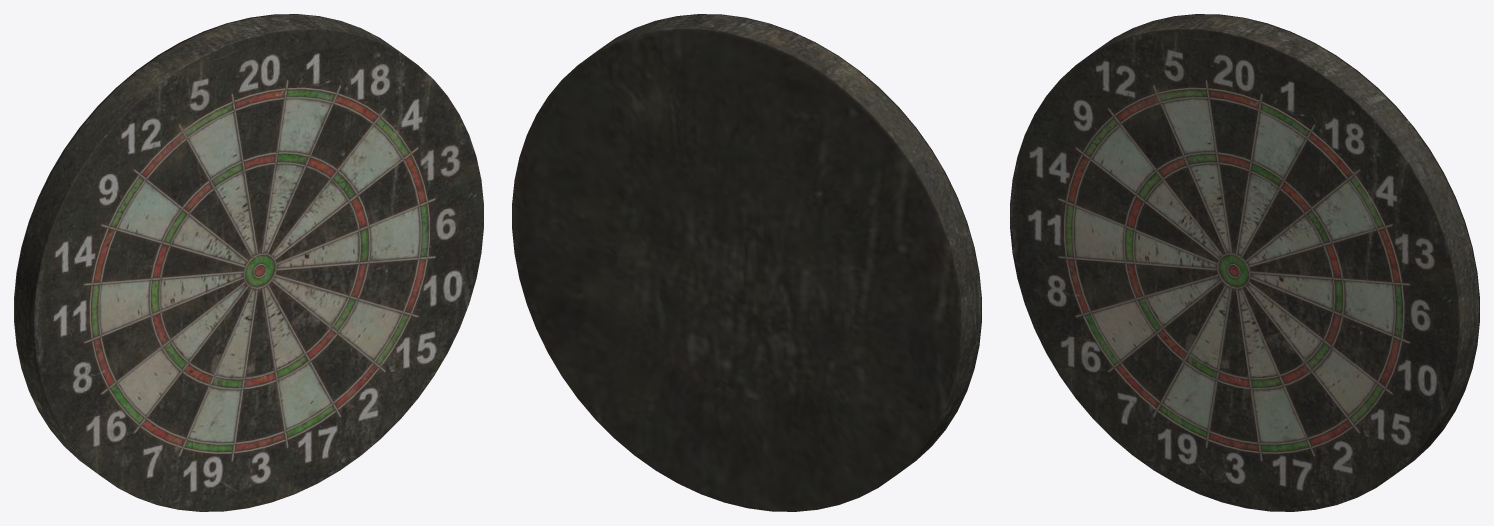
The model's file is dartboard.glb.
3 renders of one model, left to right at view 1: azimuth 30°, elevation 25°; view 2: azimuth 150°, elevation 25°; view 3: azimuth 330°, elevation 25°, orthographic.
Parts seen in each view (by area): view 1: Circle.002; view 2: Circle.002; view 3: Circle.002.
Part boxes in pixels (x1=…): Circle.002: x1=14, y1=14, x2=483, y2=511; Circle.002: x1=512, y1=14, x2=981, y2=511; Circle.002: x1=1010, y1=14, x2=1479, y2=511.
Bounding box in the file's own units: 0.4507 × 0.4507 × 0.0398.
Materials: 1 (1 with a texture image).
